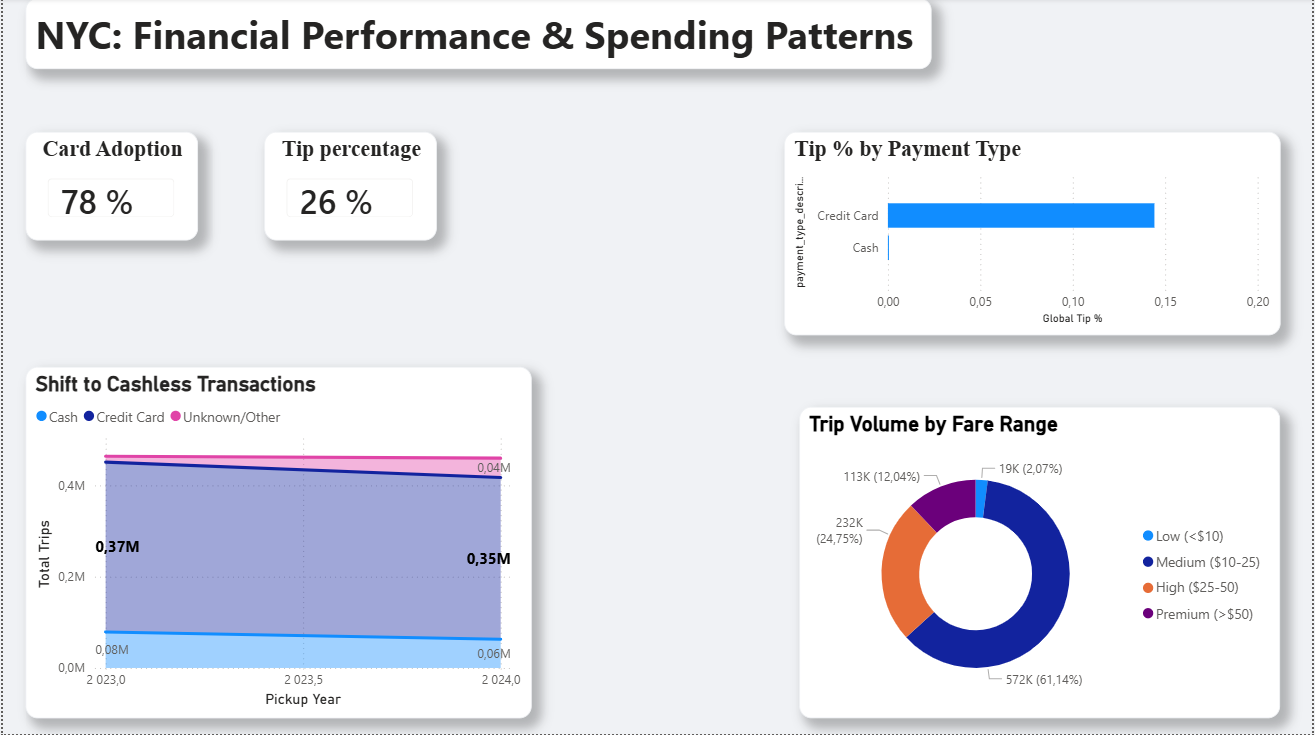

The page's visual inventory and layout, read from the dashboard file:
{"tool":"powerbi","page":{"name":"Financial Performance & Spending Patterns","canvas":[1280,720],"ordinal":3},"visuals":[{"type":"stackedAreaChart","title":"Shift to Cashless Transactions","fields":{"Category":["agg_payment_analysis.pickup_year","agg_payment_analysis.pickup_month"],"Series":["agg_payment_analysis.payment_type_description"],"Y":["Sum(agg_payment_analysis.total_trips)"]},"box":[22,360.7,495.2,343.6],"z":0},{"type":"donutChart","title":"Trip Volume by Fare Range","fields":{"Y":["Sum(agg_payment_analysis.low_fare_trips)","Sum(agg_payment_analysis.medium_fare_trips)","Sum(agg_payment_analysis.high_fare_trips)","Sum(agg_payment_analysis.very_high_fare_trips)"]},"box":[778.9,399.9,470.8,304.5],"z":1000},{"type":"clusteredBarChart","title":"Tip % by Payment Type","fields":{"Category":["agg_payment_analysis.payment_type_description"],"Y":["_Key Measures.Global Tip %"]},"box":[764.3,130.8,485.5,199.3],"z":2000},{"type":"cardVisual","title":"Card Adoption","fields":{"Data":["_Key Measures.% Card Adoption"]},"box":[22,130.8,168.8,106.4],"z":3000},{"type":"cardVisual","title":"Tip percentage","fields":{"Data":["_Key Measures.% Real Tip"]},"box":[255.6,130.8,168.8,106.4],"z":4000},{"type":"textbox","box":[22,0,886.6,69.7],"z":5000}]}

Visuals, with their boxes in screenshot pixels (x1, y1, x2, y2), scaled from the page's 1280x720 canvas onto the 1315x735 screenshot:
"Shift to Cashless Transactions" stackedAreaChart: detection(23, 368, 531, 719)
"Trip Volume by Fare Range" donutChart: detection(800, 408, 1284, 719)
"Tip % by Payment Type" clusteredBarChart: detection(785, 134, 1284, 337)
"Card Adoption" cardVisual: detection(23, 134, 196, 242)
"Tip percentage" cardVisual: detection(263, 134, 436, 242)
textbox: detection(23, 0, 933, 71)
